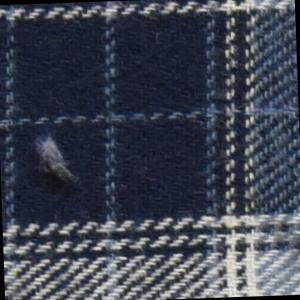Stain: (259, 220, 300, 262)
